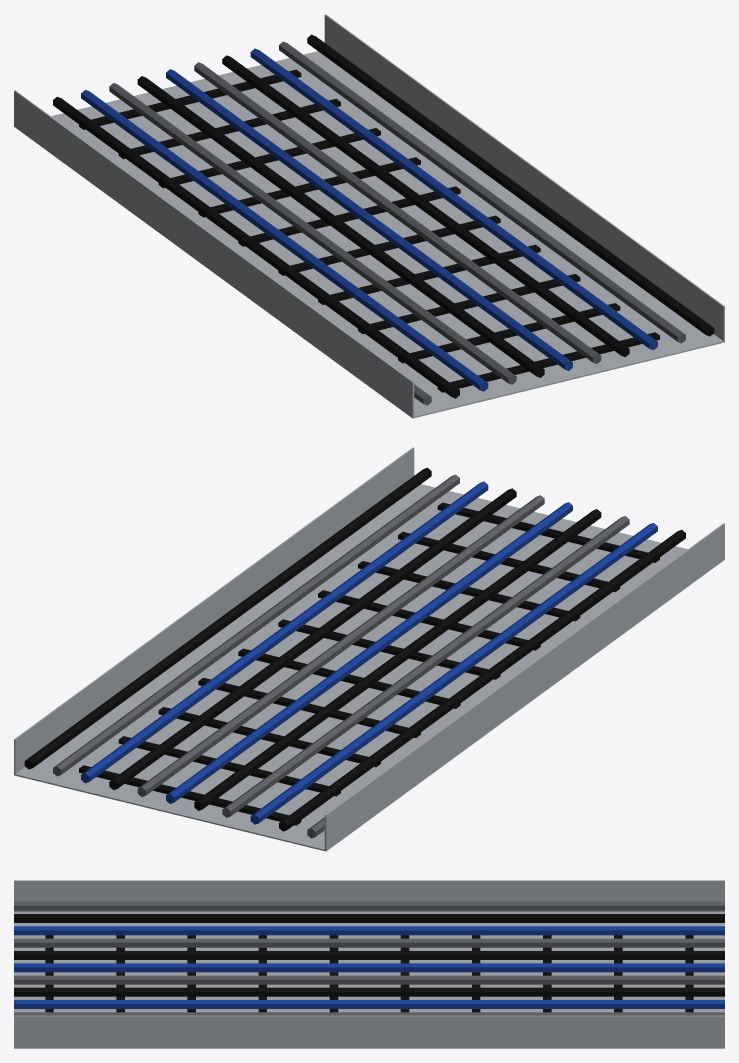
File: services.tray.run_450.glb
The picture shows the model from 3 angles, top to bottom: view 1: azimuth 30°, elevation 25°; view 2: azimuth 150°, elevation 25°; view 3: azimuth 270°, elevation 25°; orthographic projection. The views are drawn at different scales.
Parts seen in each view (by area): view 1: main__steel_galvanised, main__plastic_black, main__plastic_grey, main__plastic_blue; view 2: main__steel_galvanised, main__plastic_black, main__plastic_grey, main__plastic_blue; view 3: main__steel_galvanised, main__plastic_grey, main__plastic_black, main__plastic_blue.
Part boxes in pixels (x1,y1,x2,y2): main__steel_galvanised: (14, 14, 724, 418); main__plastic_black: (53, 34, 714, 398); main__plastic_grey: (109, 41, 685, 405); main__plastic_blue: (81, 48, 657, 391); main__steel_galvanised: (14, 447, 724, 851); main__plastic_black: (24, 467, 685, 831); main__plastic_grey: (53, 474, 629, 838); main__plastic_blue: (81, 481, 657, 824); main__steel_galvanised: (14, 880, 724, 1048); main__plastic_grey: (14, 901, 724, 1015); main__plastic_black: (14, 914, 724, 1012); main__plastic_blue: (14, 926, 724, 1008).
Bounding box in the file's own units: 0.452 × 0.0565 × 1.
